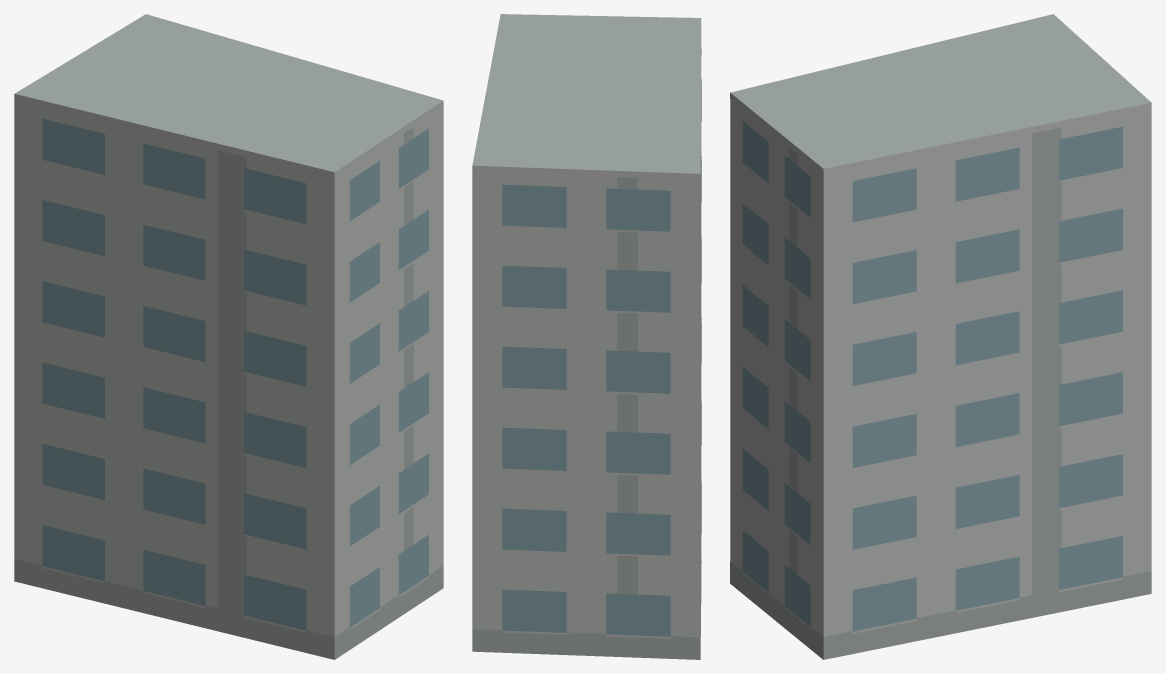
File: survey-upis-32761497.glb
3 views of the same model, side by side, from view 1: azimuth 30°, elevation 25°; view 2: azimuth 150°, elevation 25°; view 3: azimuth 270°, elevation 25° (orthographic).
Parts seen in each view (by area): view 1: survey-upis-32761497.tmp; view 2: survey-upis-32761497.tmp; view 3: survey-upis-32761497.tmp.
Part boxes in pixels (box(x1,y1,x2,y2)): survey-upis-32761497.tmp: box(14, 14, 443, 659); survey-upis-32761497.tmp: box(472, 14, 701, 659); survey-upis-32761497.tmp: box(730, 14, 1151, 659).
Size of the model in its own units: 12.38 by 18.3 by 14.25.
